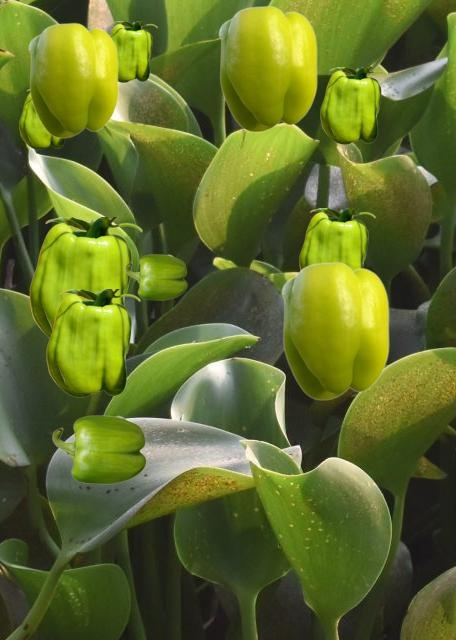bell_pepper: (281, 261, 388, 399), (29, 217, 141, 337), (218, 5, 316, 131), (28, 22, 117, 137), (46, 289, 139, 396), (52, 415, 145, 483), (320, 67, 386, 143), (299, 208, 374, 269), (110, 21, 156, 81), (125, 254, 186, 299), (19, 89, 65, 148)
